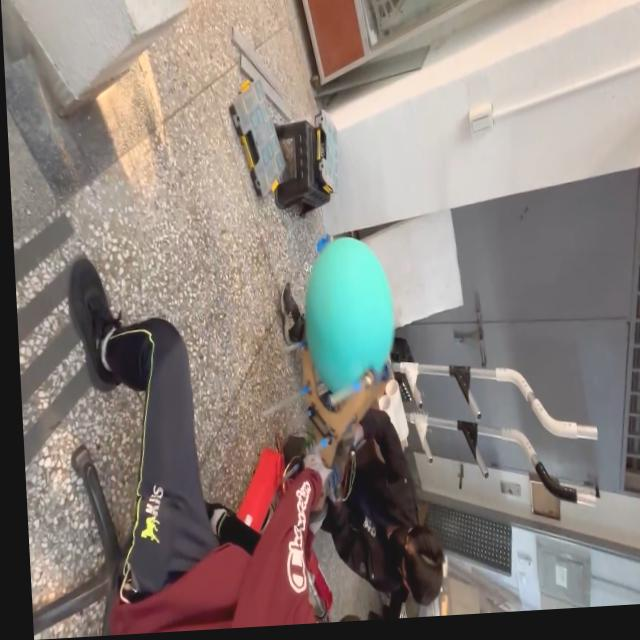ALGAE: (299, 231, 399, 398)
